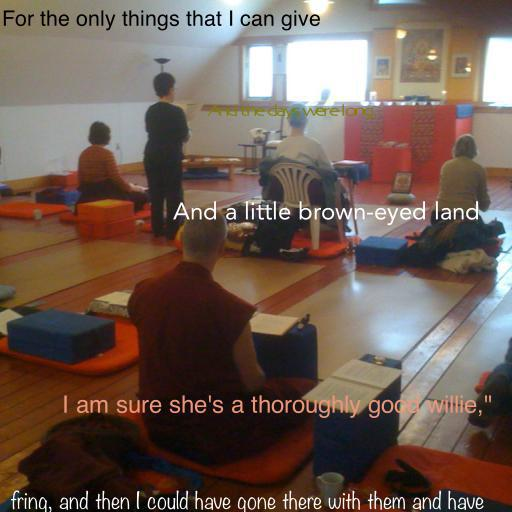Avenir: (172, 201, 480, 226)
Helvetica: (61, 395, 493, 418)
Noteworthy: (10, 490, 484, 512)
SF Pro: (1, 10, 321, 31)
Skia: (208, 104, 372, 120)
